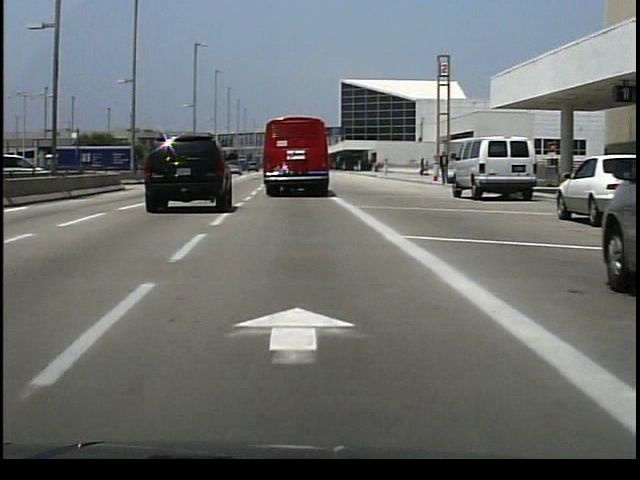person: (436, 151, 451, 190)
